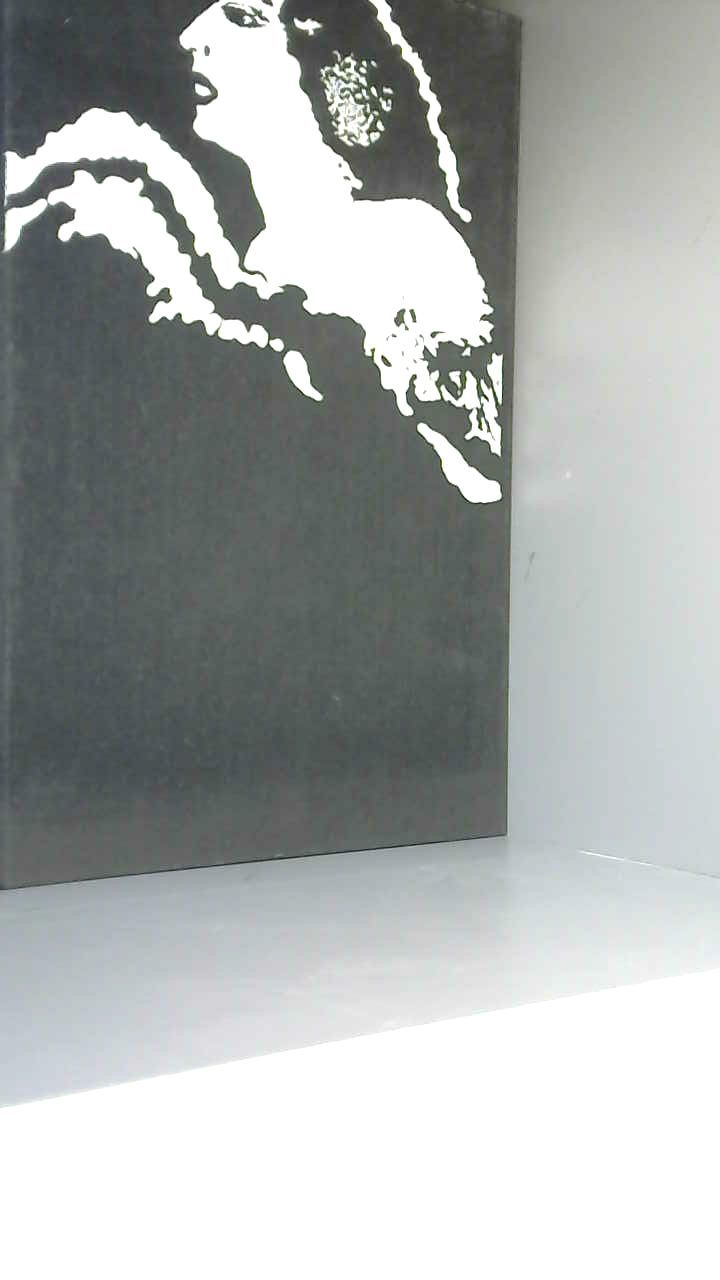book: (0, 0, 580, 919)
